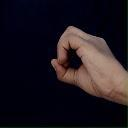hand: (50, 24, 127, 106)
